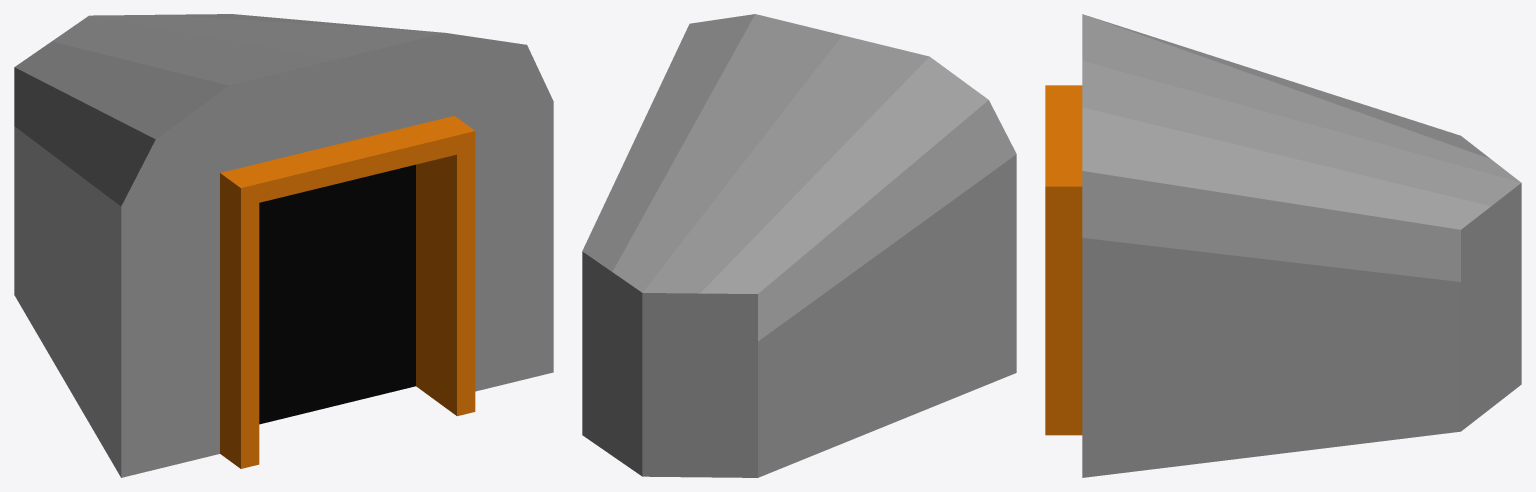
Rendered from Mine.glb.
3 renders of one model, left to right at view 1: azimuth 30°, elevation 25°; view 2: azimuth 150°, elevation 25°; view 3: azimuth 270°, elevation 25°, orthographic. The views are drawn at different scales.
Visible parts, largest first — view 1: Mine; view 2: Mine; view 3: Mine.
Part boxes in pixels (<box>): Mine: <box>14,14,553,477</box>; Mine: <box>582,14,1016,477</box>; Mine: <box>1045,14,1521,477</box>.
Bounding box in the file's own units: 0.7307 × 0.5911 × 0.7872.
